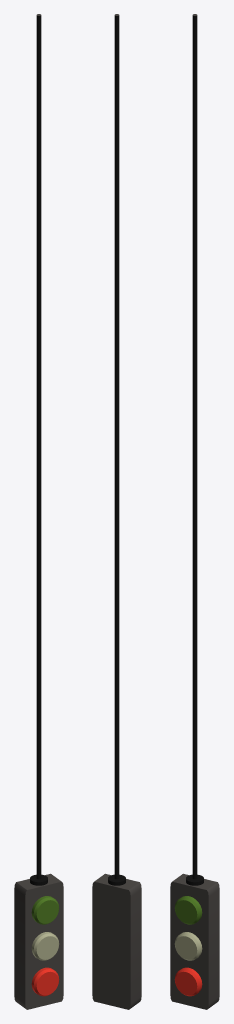
File: hangingButtons.fbx
3 views of the same model, side by side, from view 1: azimuth 30°, elevation 25°; view 2: azimuth 150°, elevation 25°; view 3: azimuth 330°, elevation 25° (orthographic).
Visible parts, largest first — view 1: Hanging Button; view 2: Hanging Button; view 3: Hanging Button.
Part boxes in pixels (bbox=[...]): Hanging Button: bbox=[14, 14, 63, 1009]; Hanging Button: bbox=[92, 14, 141, 1009]; Hanging Button: bbox=[170, 14, 219, 1009].
Bounding box in the file's own units: 8.93 × 5.75 × 220.
